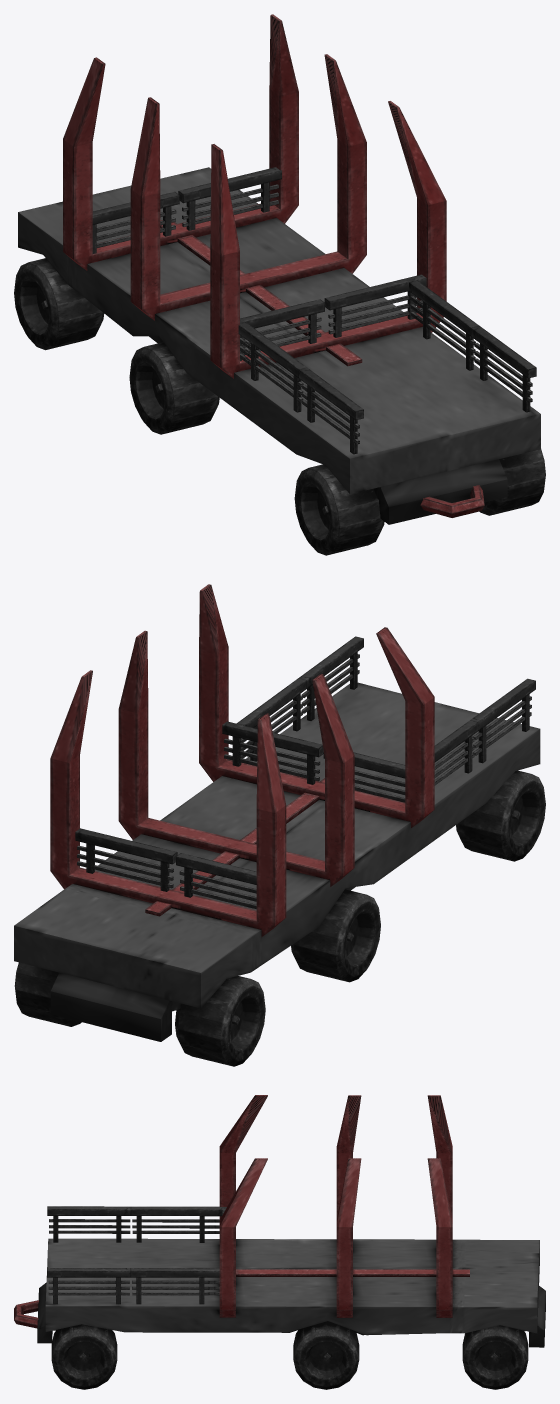
The model's file is mesh_woodtrailer.glb.
3 renders of one model, top to bottom at view 1: azimuth 30°, elevation 25°; view 2: azimuth 150°, elevation 25°; view 3: azimuth 270°, elevation 25°, orthographic. The views are drawn at different scales.
Parts seen in each view (by area): view 1: train crane; view 2: train crane; view 3: train crane.
Boxes of the visible parts, x1,y1,x2,y2 form: train crane: (14, 14, 545, 555); train crane: (14, 584, 545, 1066); train crane: (14, 1095, 545, 1389).
Size of the model in its own units: 3.59 by 4.74 by 10.01.
Materials: 1 (1 with a texture image).
